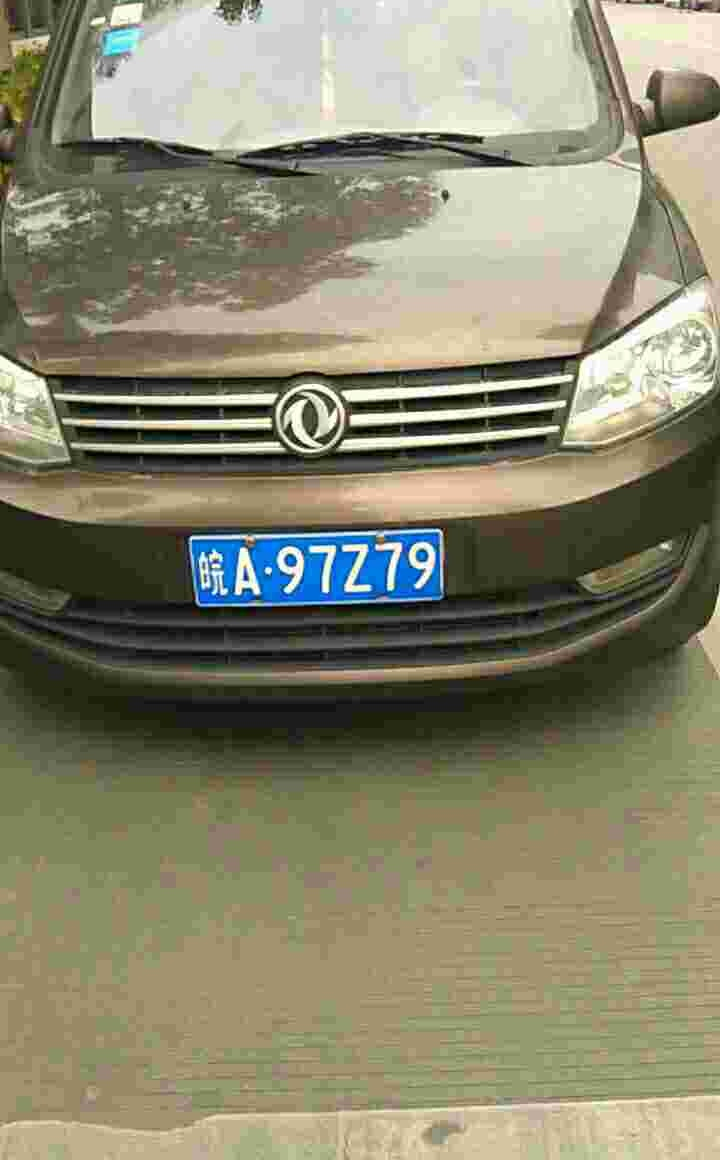plate: (192, 526, 452, 612)
